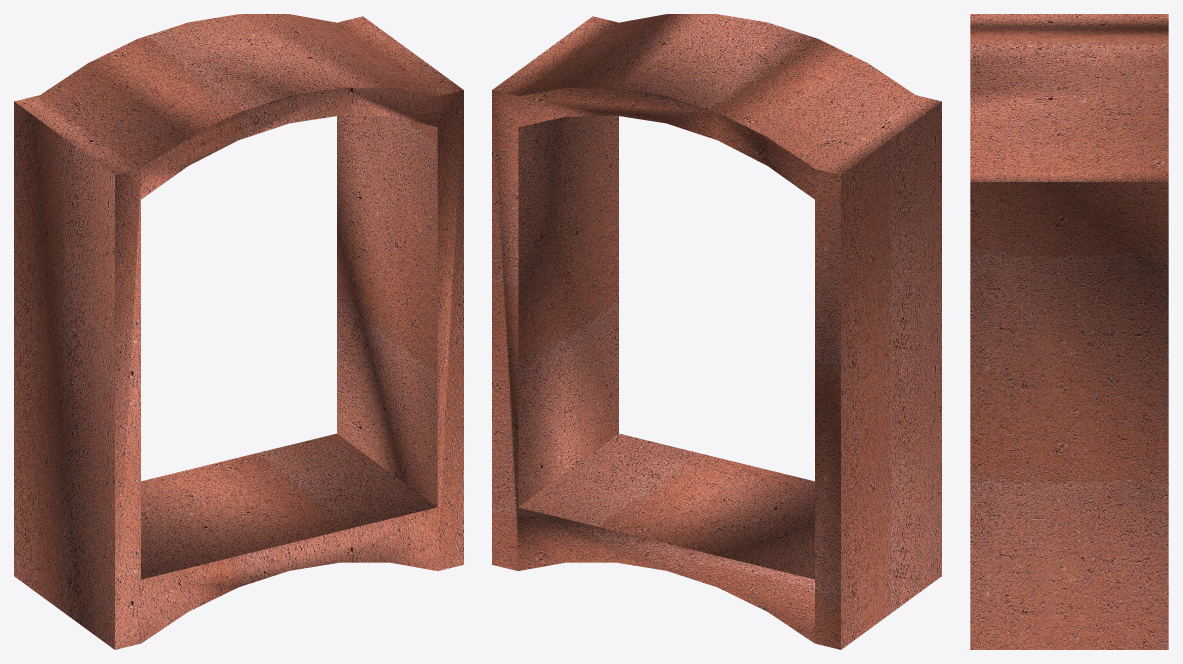
The picture shows the model from 3 angles, left to right: view 1: azimuth 30°, elevation 25°; view 2: azimuth 150°, elevation 25°; view 3: azimuth 270°, elevation 25°; orthographic projection.
Parts seen in each view (by area): view 1: clay.003; view 2: clay.003; view 3: clay.003.
Boxes of the visible parts, box(x1,y1,x2,y2) form: clay.003: box(14, 14, 463, 649); clay.003: box(492, 14, 941, 649); clay.003: box(970, 14, 1168, 649).
Size of what is drawn, in the model's own units: 0.4 by 0.56 by 0.2.
Materials: 1 (1 with a texture image).
